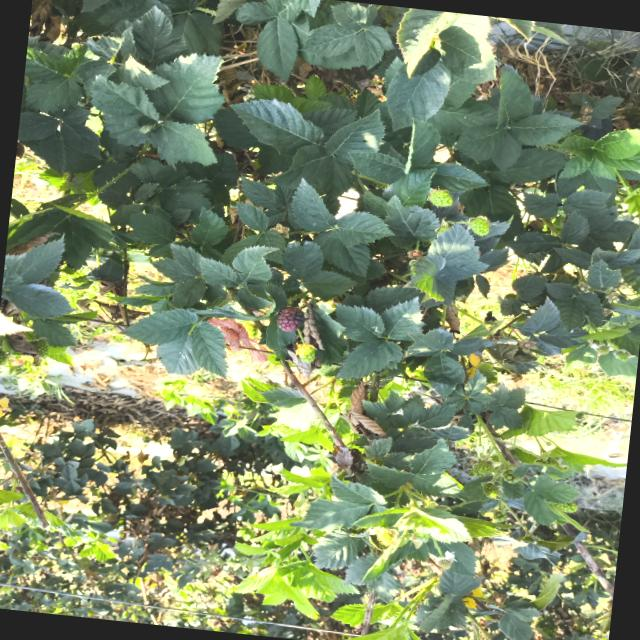marron: (277, 306, 304, 332)
verde: (469, 216, 490, 236), (429, 190, 453, 207), (297, 344, 315, 363)
